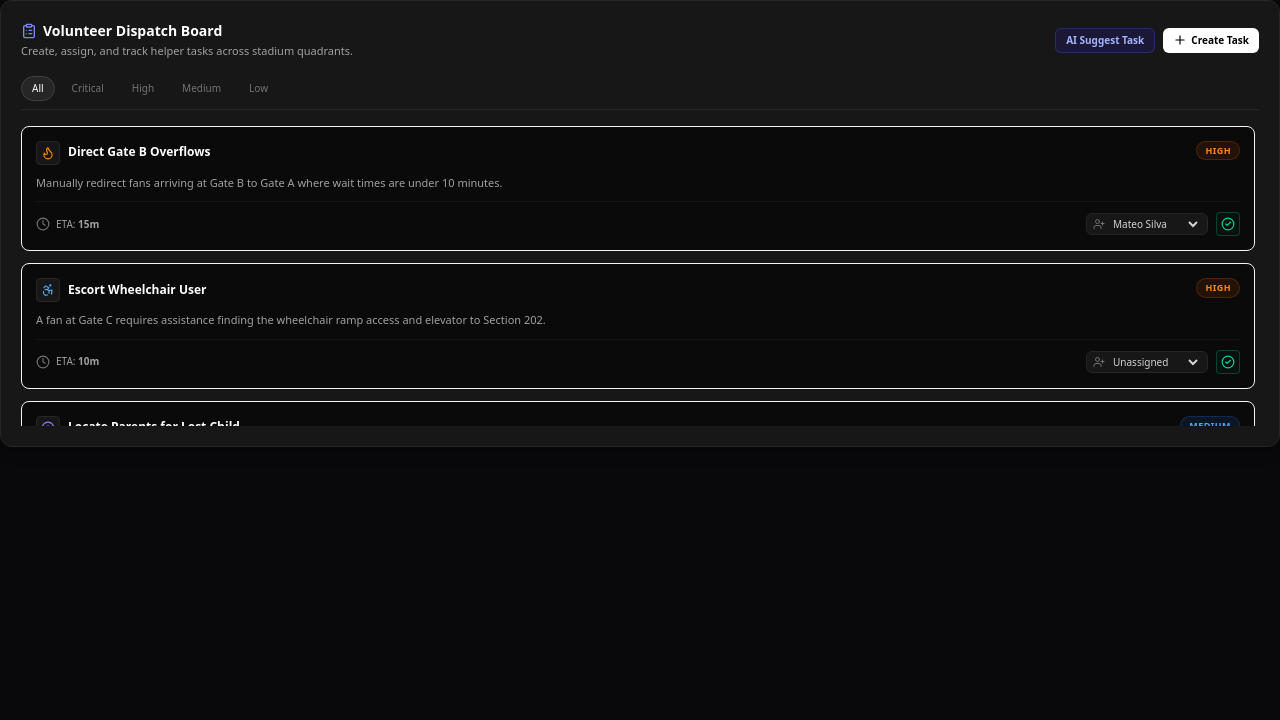
Test case: Feature Components Integration › VolunteerTasks › should support priority filtering and manual task creation
The width and height of the screenshot is (1280, 720).
Expected: the button "all" is shown, [21,76,55,100]
Click the button "critical" at (88, 88), box [61,76,115,100]
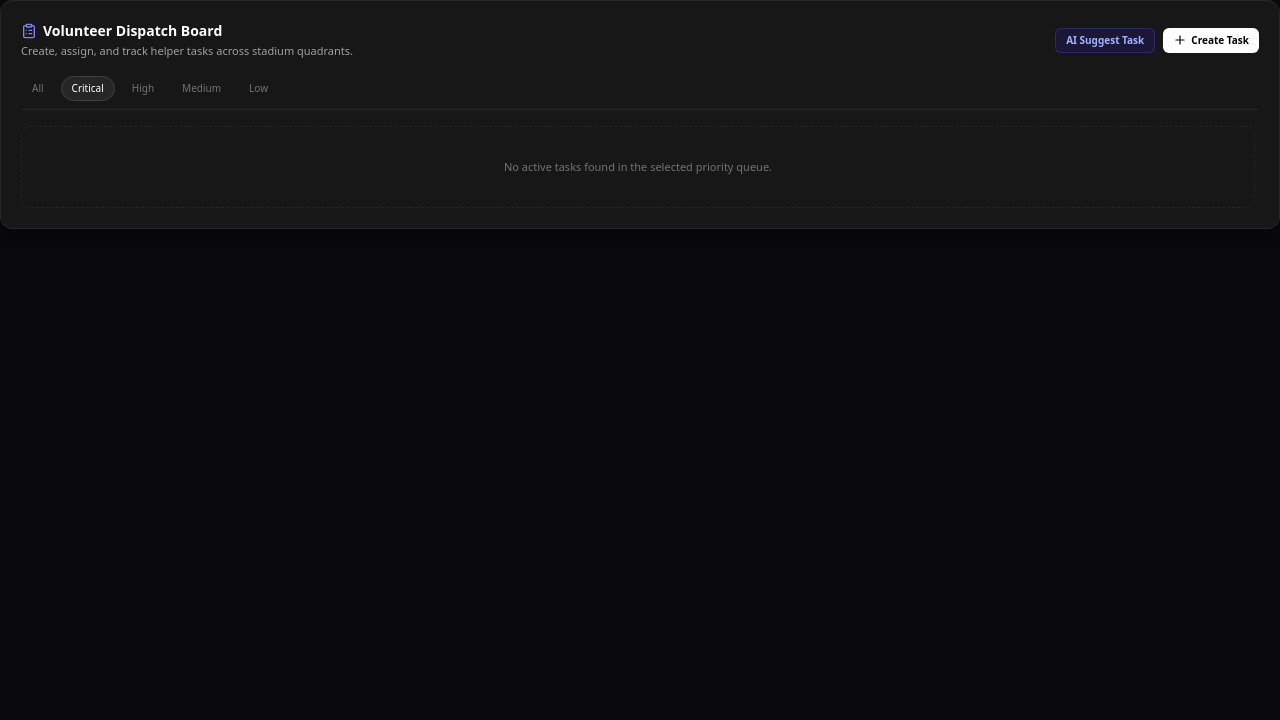
Expected: the text "No active tasks found in the selected priority queue." is shown, [21,126,1255,208]
Click the button "Create Task" at (1211, 40), box [1163,28,1259,53]
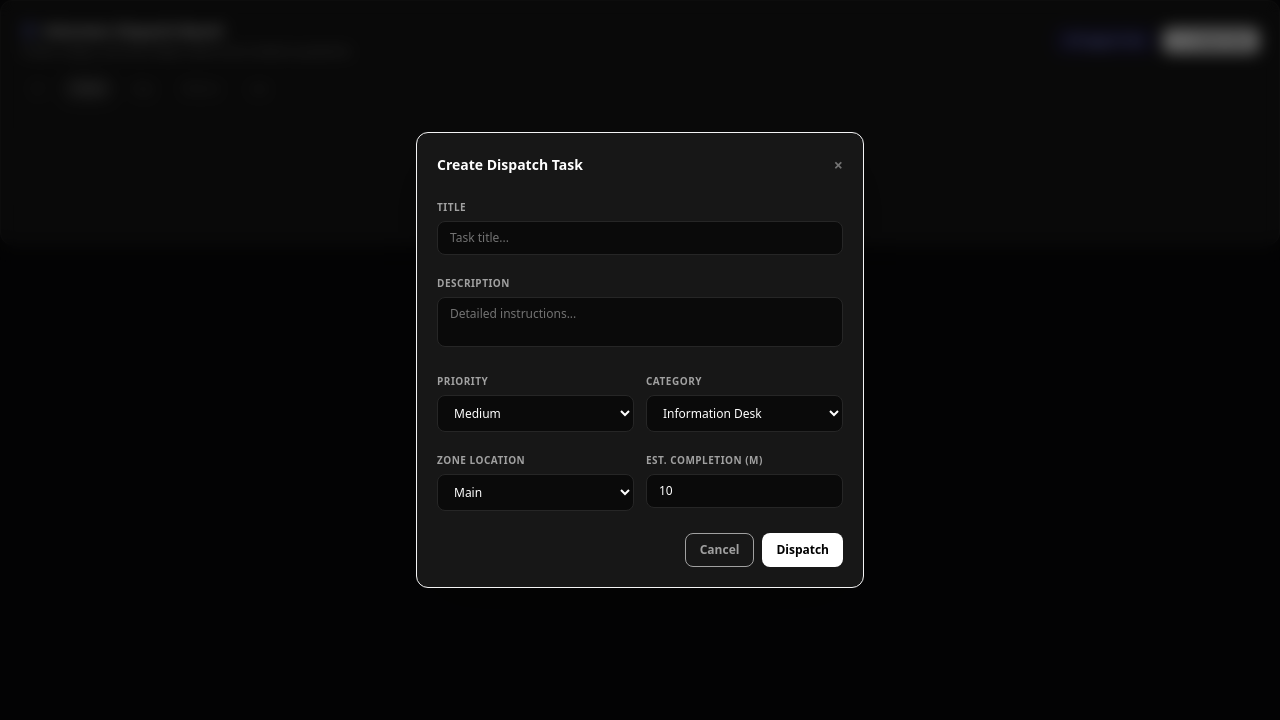
Expected: the heading "Create Dispatch Task" is shown, [437,155,583,175]
Type "New Helper Request" into the field labelled "Title" at (640, 238), box [437,221,843,255]
Type "Escort family at Gate A" into the text box labelled "Description" at (640, 322), box [437,297,843,347]
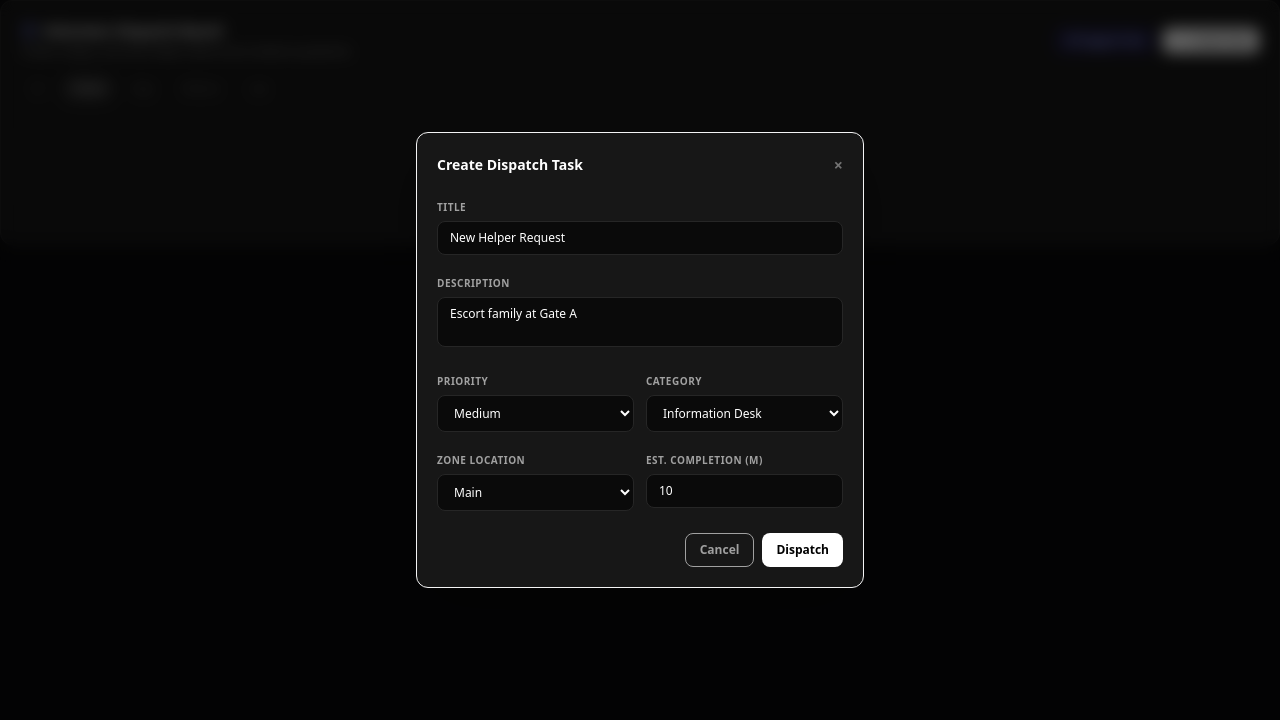
Replace the text in the number field labelled "Est. Completion (m)" with "15" at (744, 491), box [646,474,843,508]
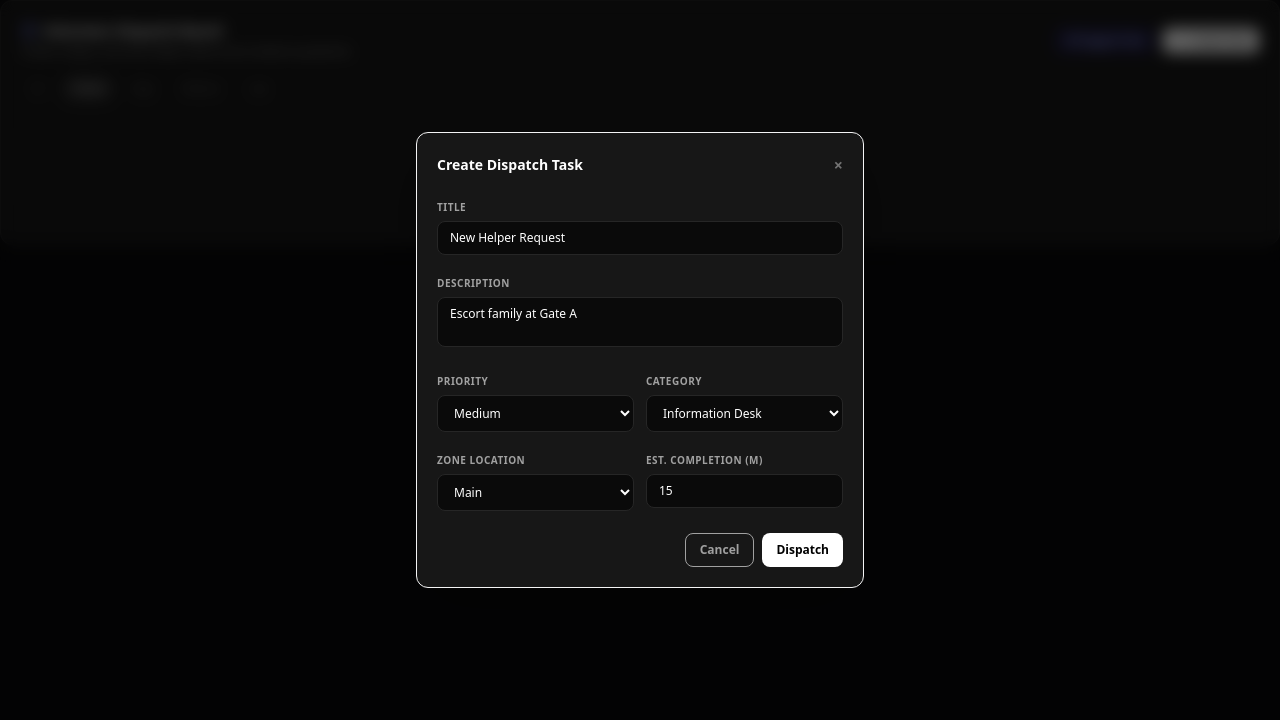
Click the button "Dispatch" at (803, 550), box [762,533,843,567]
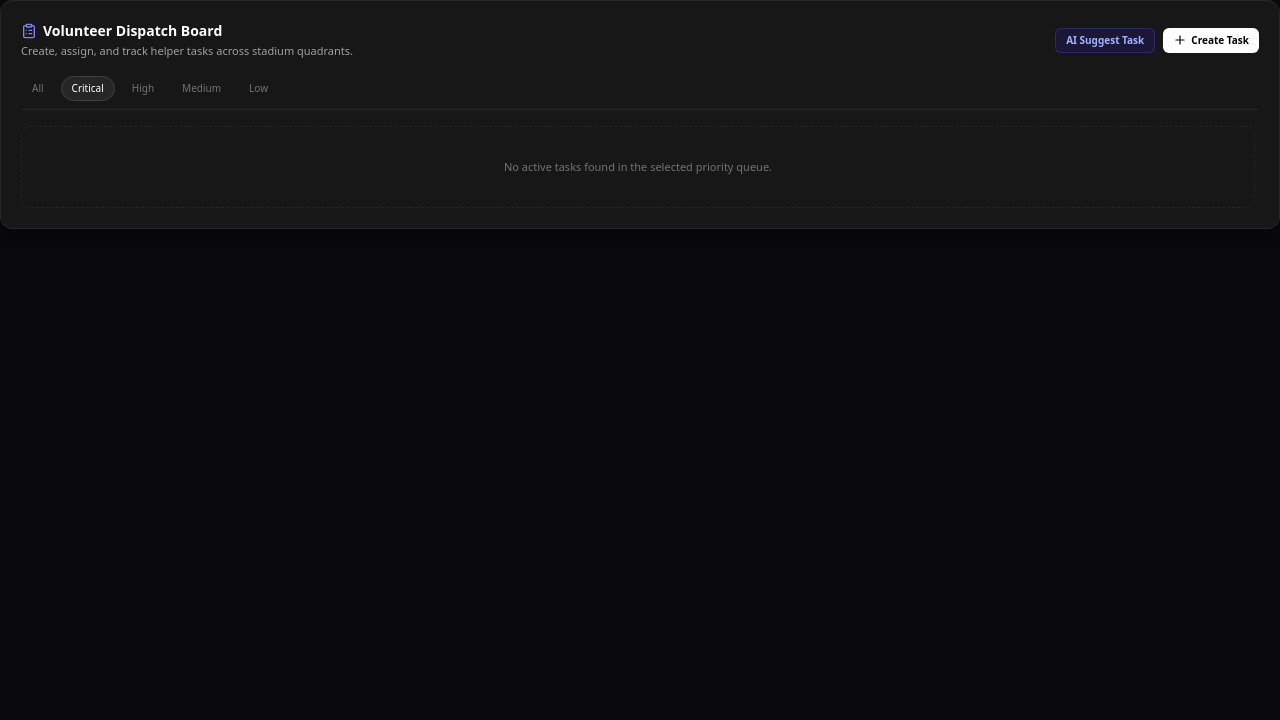
Click the button "all" at (38, 88), box [21,76,55,100]
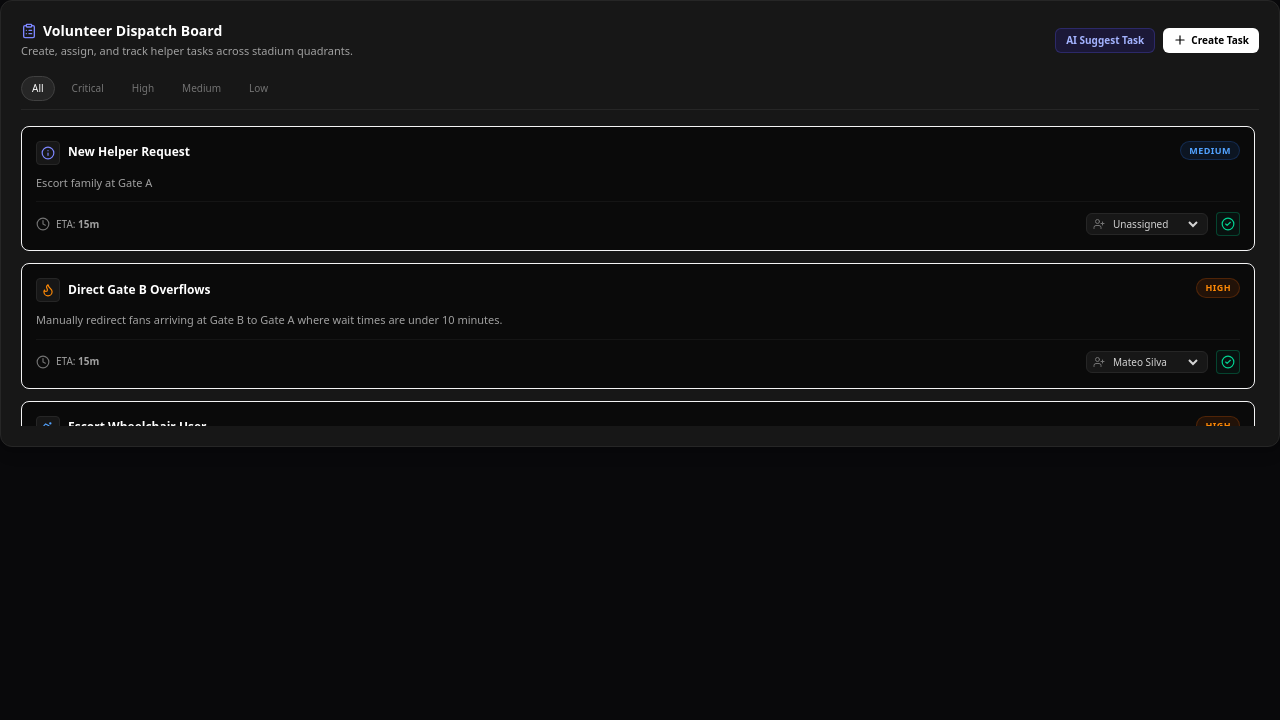
Expected: the heading "New Helper Request" is shown, [68,144,190,161]
